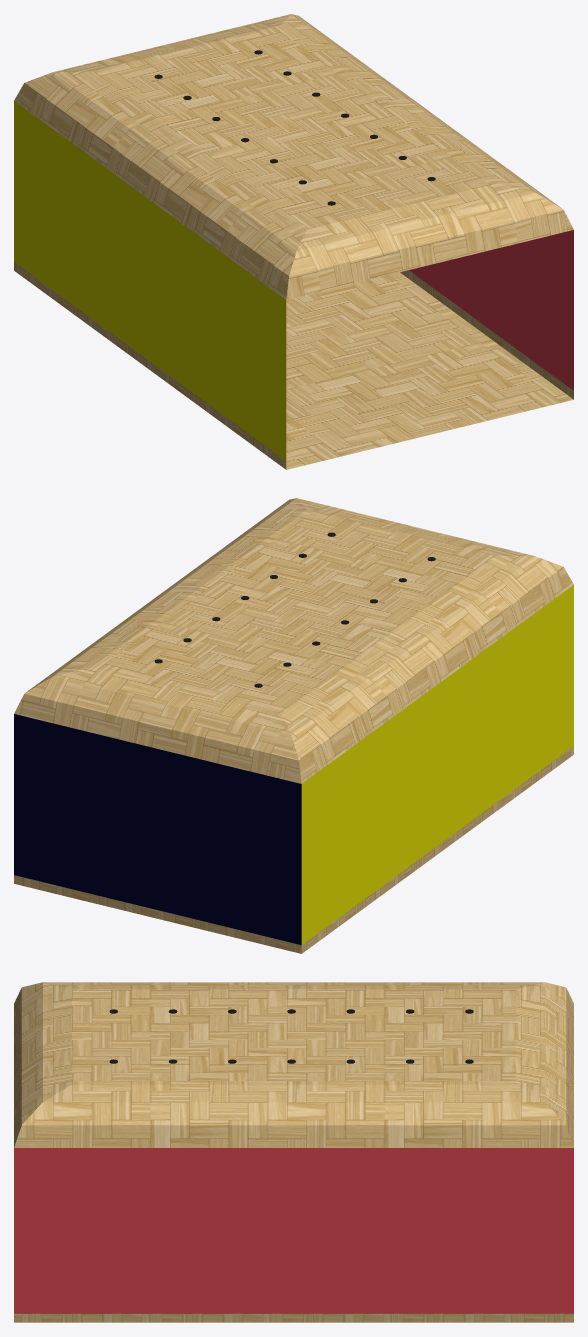
File: gallery_scene.gltf
3 renders of one model, top to bottom at view 1: azimuth 30°, elevation 25°; view 2: azimuth 150°, elevation 25°; view 3: azimuth 270°, elevation 25°, orthographic. The views are drawn at different scales.
Visible parts, largest first — view 1: Cube001_3, Cube001_2, Cube001; view 2: Cube001_3, Cube001_1, Cube001_2; view 3: Cube001_3, Cube001, Cylinder.
Part boxes in pixels (x1,y1,x2,y2): Cube001_3: [14, 14, 573, 469]; Cube001_2: [14, 101, 286, 460]; Cube001: [409, 230, 573, 390]; Cube001_3: [14, 498, 573, 953]; Cube001_1: [14, 714, 301, 944]; Cube001_2: [301, 585, 573, 944]; Cube001_3: [14, 982, 573, 1322]; Cube001: [14, 1148, 573, 1313]; Cylinder: [109, 1009, 473, 1063].
Size of the model in its own units: 5.76 by 3.99 by 9.44.
6 materials, 1 textured.
